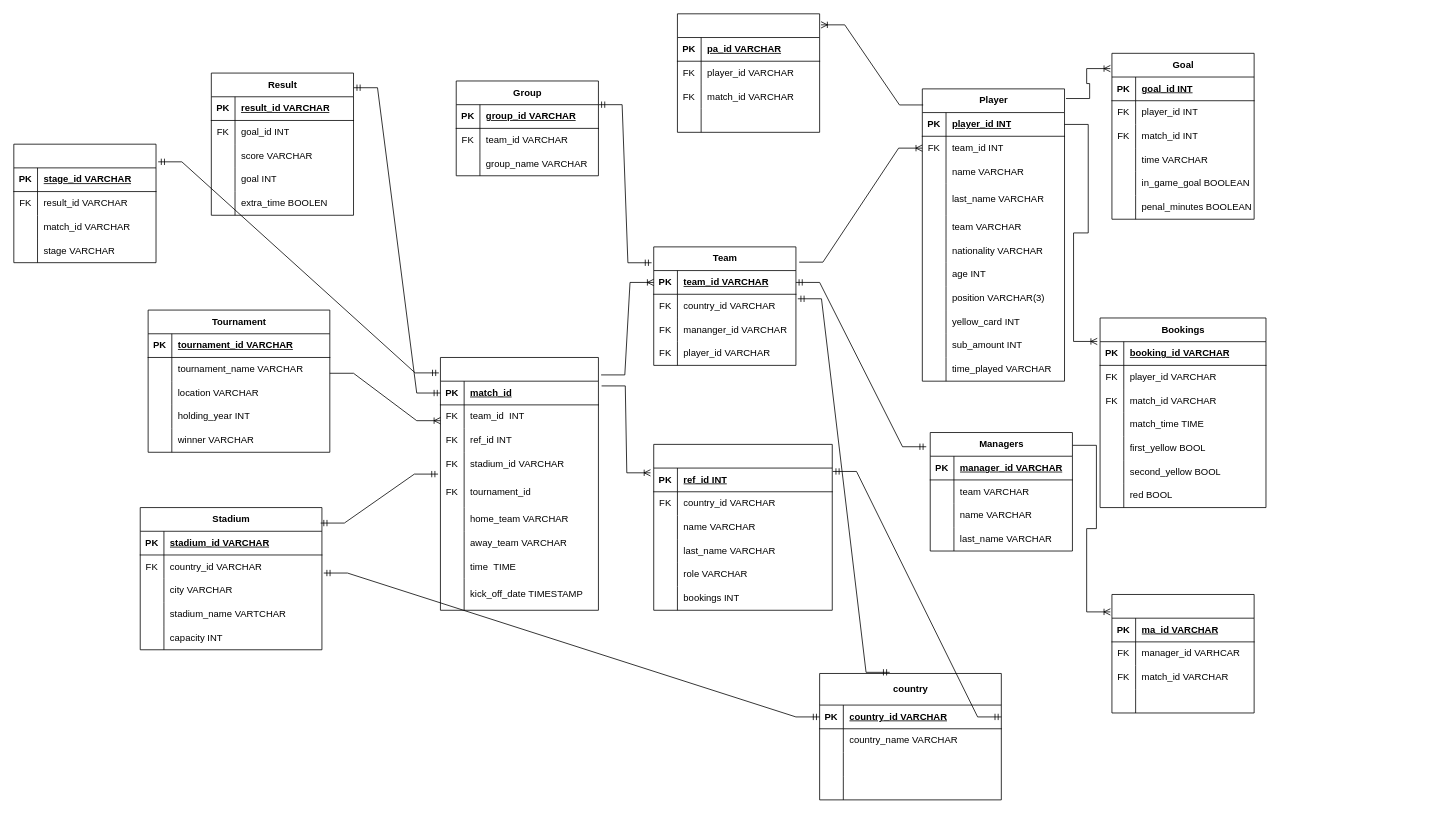
This 1450x814 diagram has some shape labels left out. The shapes that lost their labels are listed below. From the top down, each one's box as (x1, y1, x2, y2) in pixels, then its label:
(677, 13, 820, 132): player_appearances
(13, 143, 156, 263): PO_stage
(440, 357, 598, 610): Matches
(653, 444, 832, 610): Referees
(1111, 594, 1254, 713): Manager_appearances
